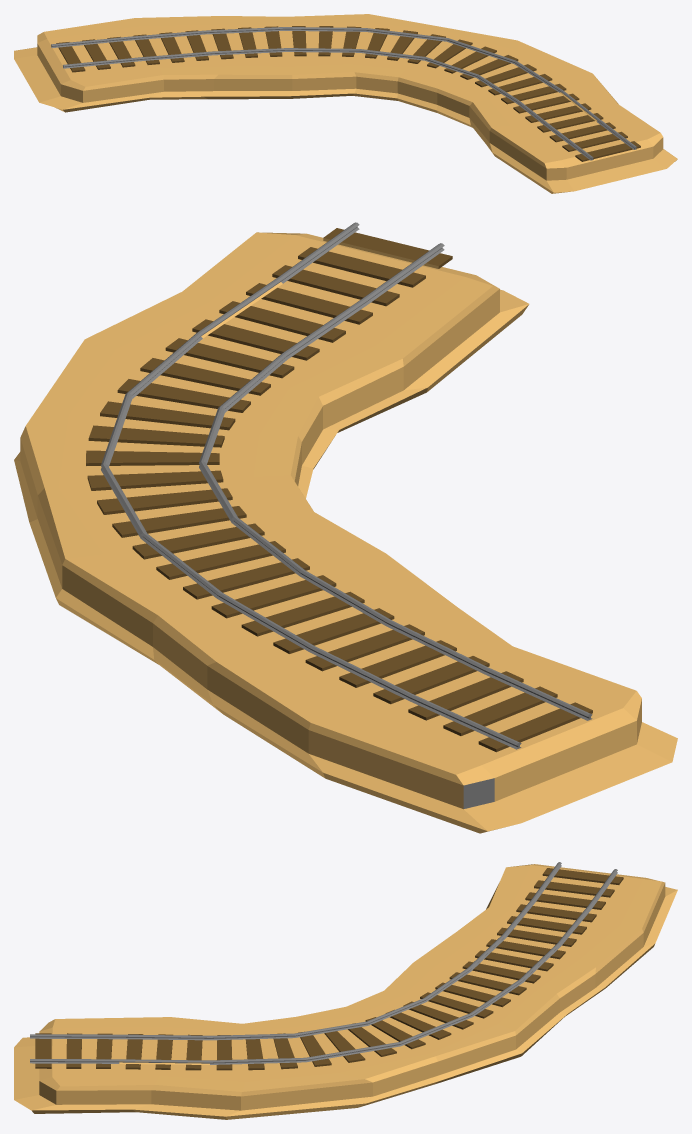
Rendered from RailRoadLeft.fbx.
3 renders of one model, top to bottom at view 1: azimuth 30°, elevation 25°; view 2: azimuth 150°, elevation 25°; view 3: azimuth 270°, elevation 25°, orthographic. The views are drawn at different scales.
Parts seen in each view (by area): view 1: Cube.001; view 2: Cube.001; view 3: Cube.001.
Boxes of the visible parts, left/top/right/bottom form: Cube.001: left=14, top=14, right=677, bottom=193; Cube.001: left=14, top=222, right=677, bottom=833; Cube.001: left=14, top=862, right=677, bottom=1119.
Size of the model in its own units: 7760 by 456 by 8836.
